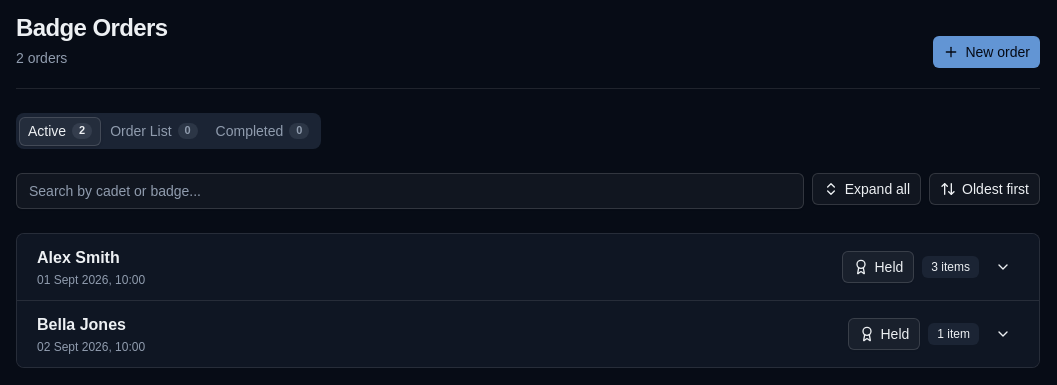
Test: expand all › expands every order on the tab, then collapses them again
The image size is (1057, 385).
Expected: the link "Alex Smith" is shown, x1=37 y1=246 x2=120 y2=270
Click the button "Expand all".
click(866, 189)  # box x1=812 y1=173 x2=921 y2=205
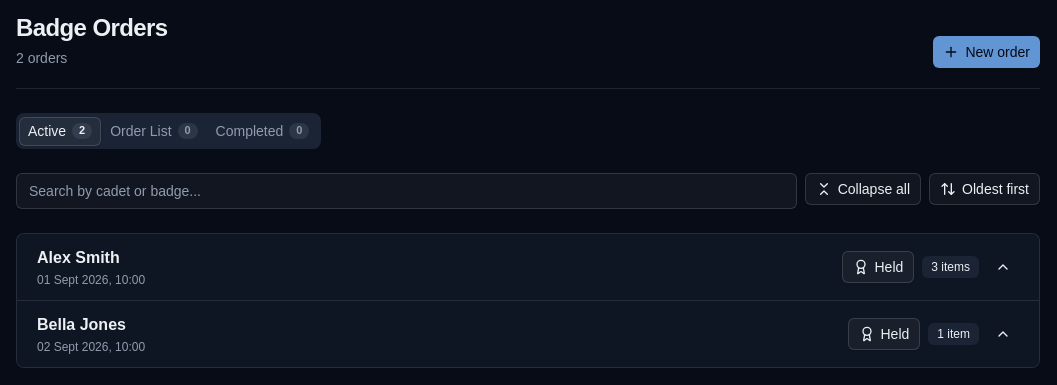
Expected: the button named "Collapse order for Alex Smith" is shown, x1=987 y1=251 x2=1019 y2=283
Expected: the button named "Collapse order for Bella Jones" is shown, x1=987 y1=318 x2=1019 y2=350
Click the button "Collapse all".
click(863, 189)  # box x1=805 y1=173 x2=921 y2=205
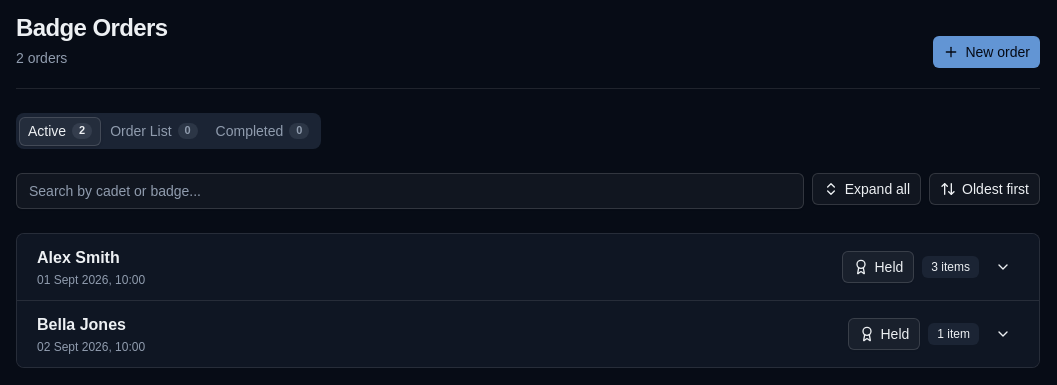
Expected: the button named "Expand order for Alex Smith" is shown, x1=987 y1=251 x2=1019 y2=283
Expected: the button named "Expand order for Bella Jones" is shown, x1=987 y1=318 x2=1019 y2=350
